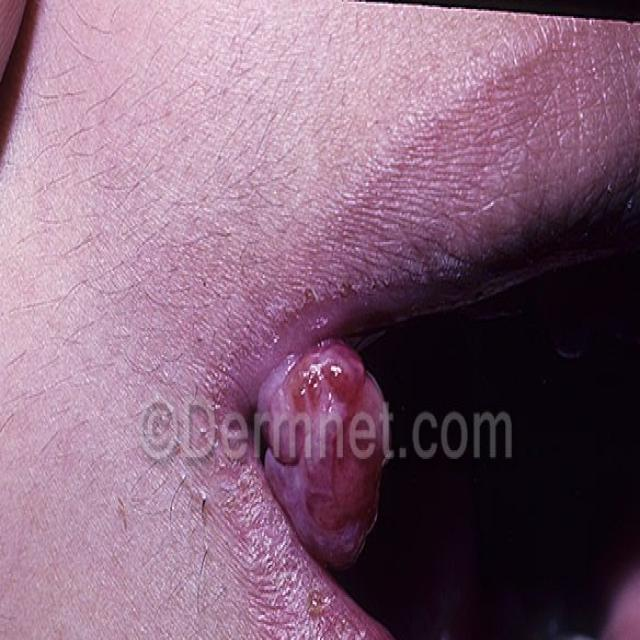Vascular Tumors: (258, 323, 396, 592)
